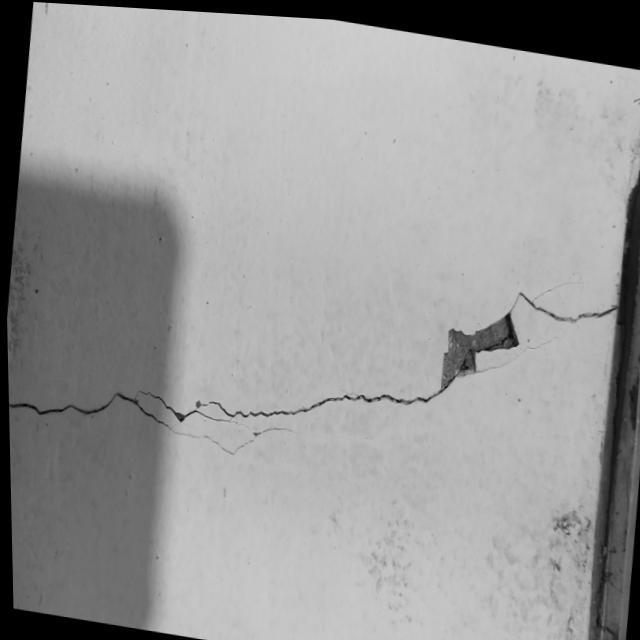Crack: (28, 287, 600, 458)
